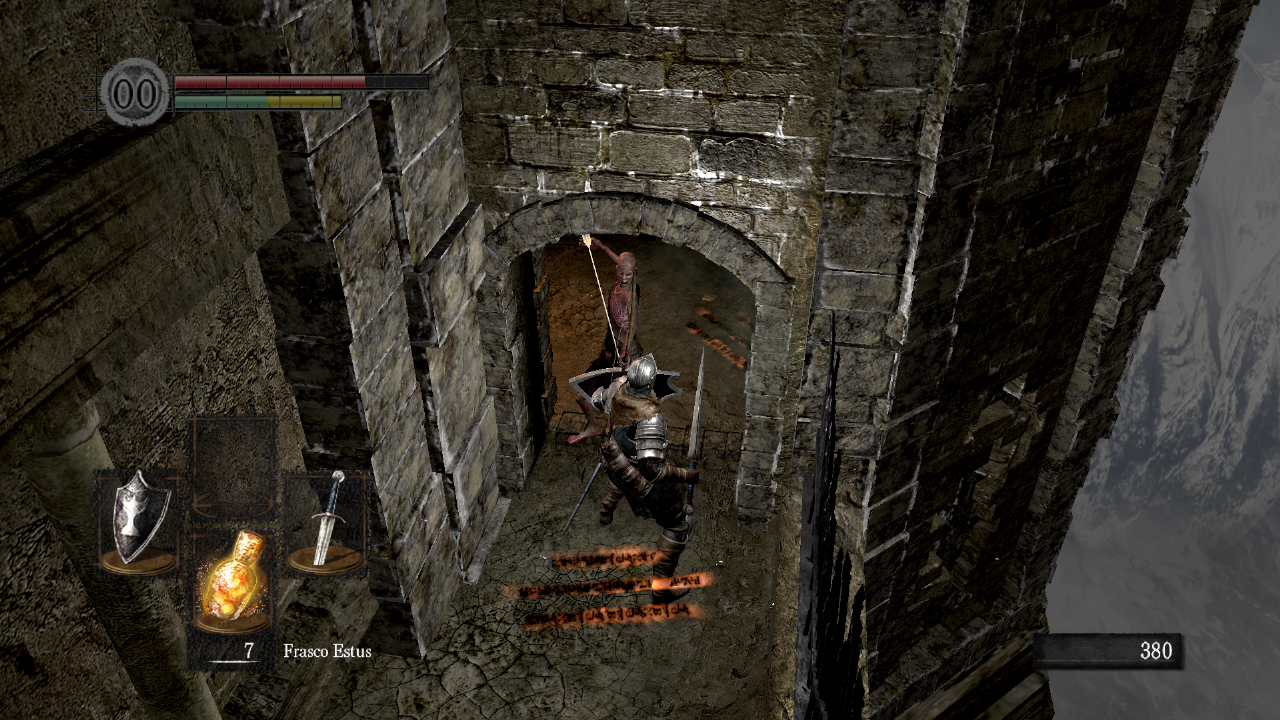hollow: (567, 234, 644, 444)
player: (563, 346, 706, 605)
